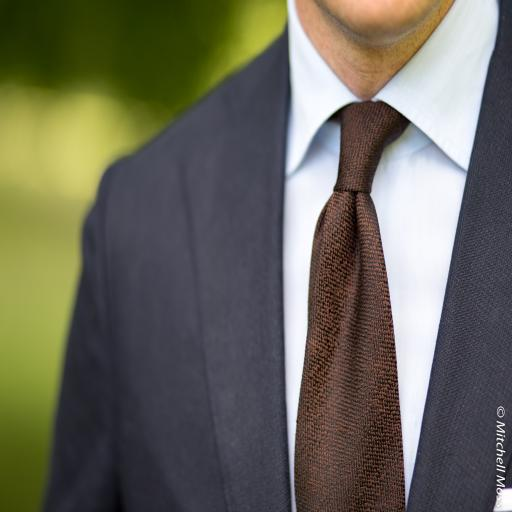person: (41, 1, 511, 511)
tie: (293, 100, 410, 511)
